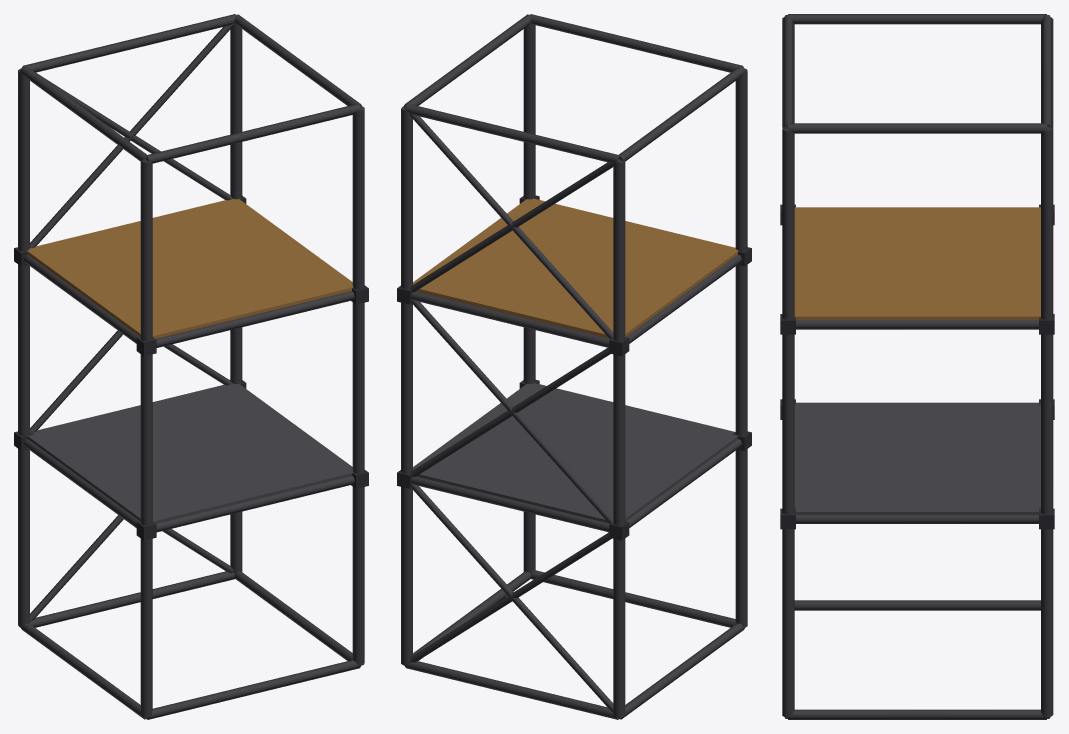
The model's file is scaffolding_kit.obj.
3 renders of one model, left to right at view 1: azimuth 30°, elevation 25°; view 2: azimuth 150°, elevation 25°; view 3: azimuth 270°, elevation 25°, orthographic. The views are drawn at different scales.
Parts seen in each view (by area): view 1: box_43, cyl_3, cyl_2, cyl_0, cyl_1, box_42, box_36, box_35, box_37, box_41, box_39, box_40 (+19 smaller); view 2: box_43, cyl_0, cyl_3, cyl_1, cyl_2, box_34, box_41, box_42, box_40, box_37, box_39, box_36 (+20 smaller); view 3: box_43, cyl_1, cyl_2, box_37, box_39, box_36, box_38, box_40, box_35, box_41, cyl_17, cyl_5 (+8 smaller).
Part boxes in pixels (box(x1,y1,x2,y2)): box_43: box(28, 383, 353, 523); cyl_3: box(140, 160, 152, 717); cyl_2: box(352, 107, 364, 665); cyl_0: box(18, 68, 29, 627); cyl_1: box(230, 23, 242, 573); box_42: box(132, 276, 353, 338); box_36: box(51, 217, 276, 281); box_35: box(38, 207, 263, 271); box_37: box(65, 227, 290, 291); box_41: box(119, 266, 344, 330); box_39: box(92, 246, 317, 311); box_40: box(105, 256, 330, 320); box_43: box(413, 383, 737, 523); cyl_0: box(613, 160, 625, 717); cyl_3: box(735, 68, 747, 627); cyl_1: box(401, 107, 412, 665); cyl_2: box(523, 22, 535, 574); box_34: box(413, 276, 633, 338); box_41: box(507, 207, 727, 271); box_42: box(516, 198, 738, 261); box_40: box(489, 218, 714, 281); box_37: box(448, 246, 673, 311); box_39: box(475, 227, 700, 291); box_36: box(435, 256, 660, 320); box_43: box(794, 402, 1040, 514); cyl_1: box(1041, 127, 1053, 717); cyl_2: box(782, 127, 794, 717); box_37: box(931, 207, 960, 320); box_39: box(874, 207, 903, 320); box_36: box(960, 207, 988, 320); box_38: box(903, 207, 931, 320); box_40: box(846, 207, 874, 320); box_35: box(988, 207, 1016, 320); box_41: box(818, 207, 846, 320); cyl_17: box(788, 123, 1046, 133); cyl_5: box(788, 709, 1046, 719).
Size of the model in its own units: 2.12 by 5.07 by 2.12.
